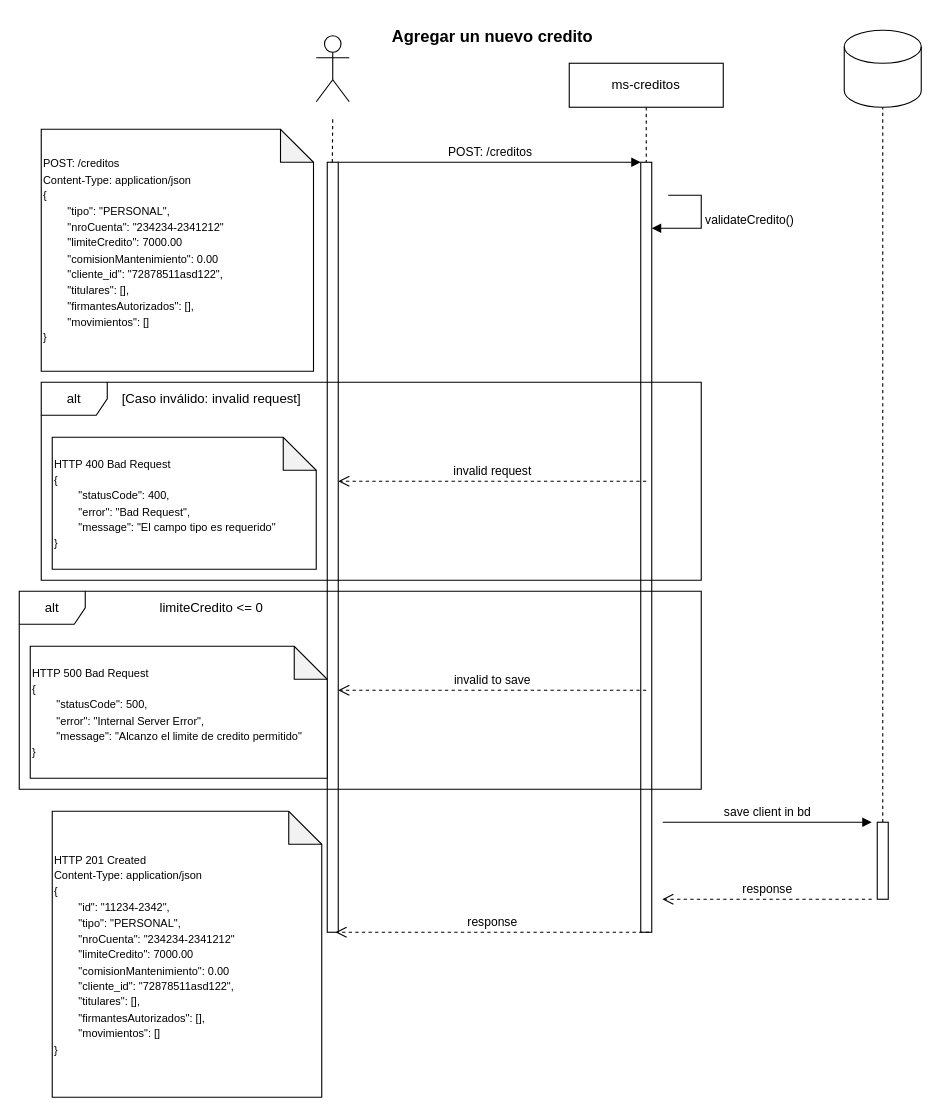
Some shapes in this 941 by 1117 pixel diagram are drawn without their labels. Each missing label, with the centre of its shape:
Cliente: point (332, 68)
MongoDb: point (882, 68)
